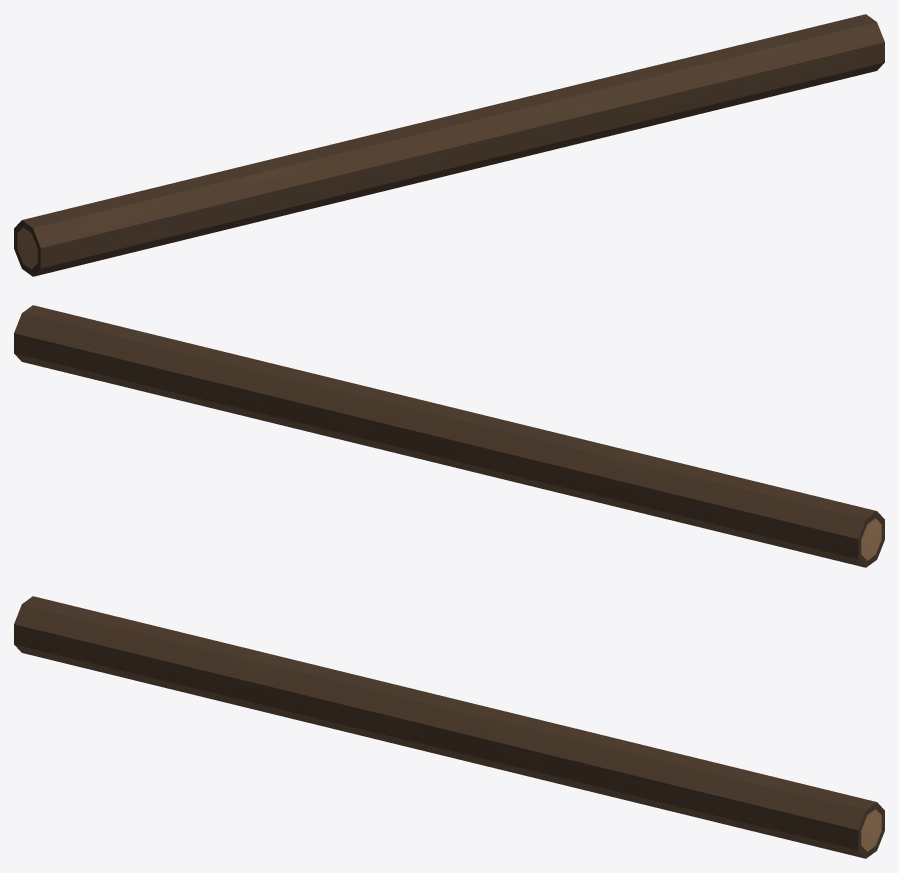
File: cabin_Support_Log.obj
The picture shows the model from 3 angles, top to bottom: view 1: azimuth 30°, elevation 25°; view 2: azimuth 150°, elevation 25°; view 3: azimuth 330°, elevation 25°; orthographic projection.
Visible parts, largest first — view 1: cabin_Support_Log; view 2: cabin_Support_Log; view 3: cabin_Support_Log.
Boxes of the visible parts, x1=… form: cabin_Support_Log: x1=14, y1=14, x2=884, y2=276; cabin_Support_Log: x1=14, y1=305, x2=884, y2=567; cabin_Support_Log: x1=14, y1=596, x2=884, y2=858.
Bounding box in the file's own units: 9.86 × 0.5428 × 0.5428.
